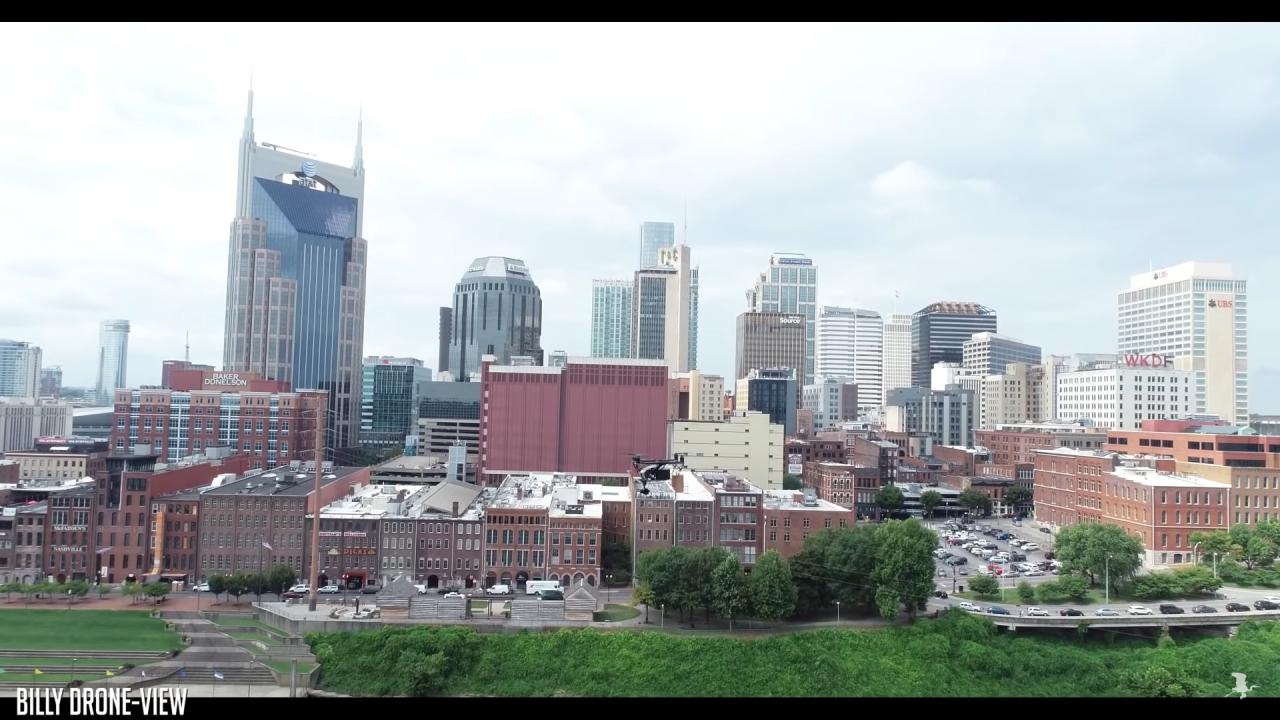Drone: (618, 441, 694, 503)
